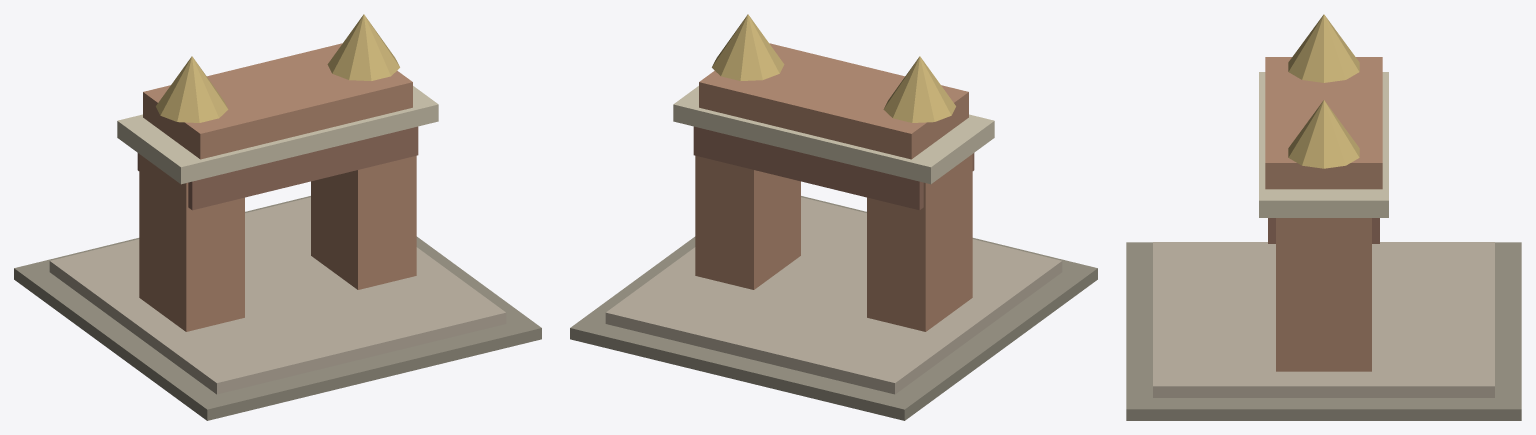
Rendered from bagan-entrance.glb.
3 renders of one model, left to right at view 1: azimuth 30°, elevation 25°; view 2: azimuth 150°, elevation 25°; view 3: azimuth 270°, elevation 25°, orthographic. The views are drawn at different scales.
Size of the model in its own units: 3.7 by 2.9 by 3.7.
